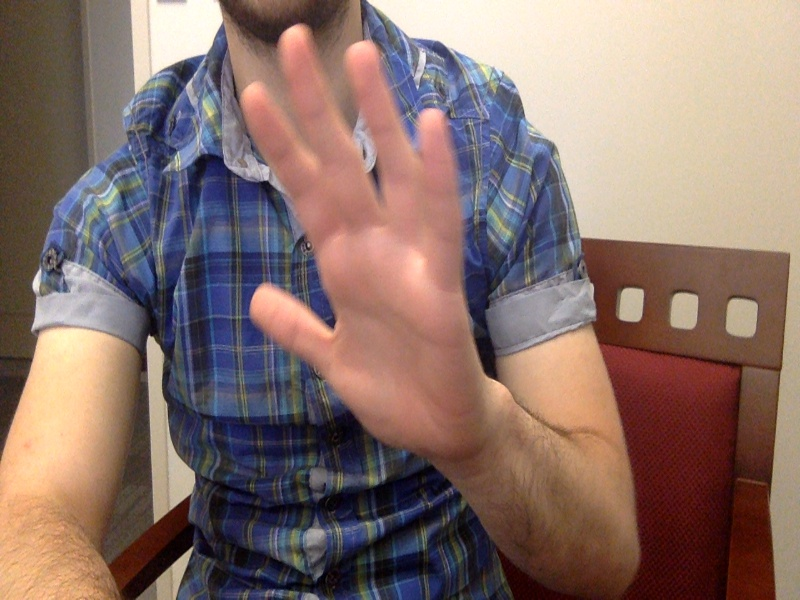5-hand: (249, 22, 500, 467)
